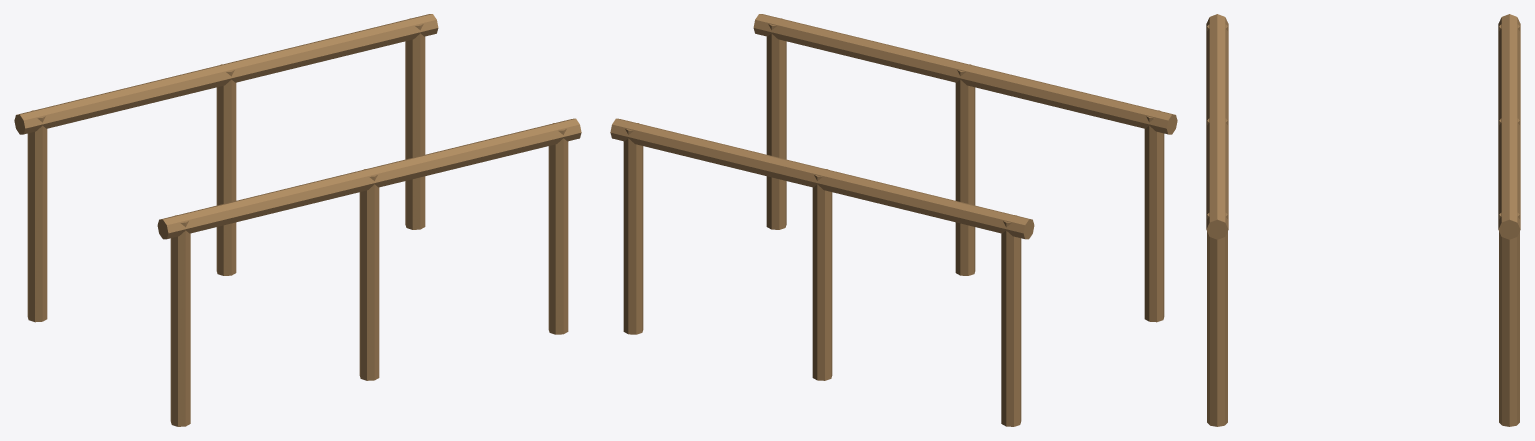
Rendered from StarterBuilding_Build_00.fbx.
3 views of the same model, side by side, from view 1: azimuth 30°, elevation 25°; view 2: azimuth 150°, elevation 25°; view 3: azimuth 270°, elevation 25° (orthographic). The views are drawn at different scales.
Visible parts, largest first — view 1: StarterBuilding_Build_00; view 2: StarterBuilding_Build_00; view 3: StarterBuilding_Build_00.
Part boxes in pixels (left/top/right/bottom): StarterBuilding_Build_00: left=14, top=14, right=581, bottom=426; StarterBuilding_Build_00: left=610, top=14, right=1177, bottom=426; StarterBuilding_Build_00: left=1206, top=14, right=1520, bottom=426.
Bounding box in the file's own units: 3.5 × 1.68 × 2.26.
